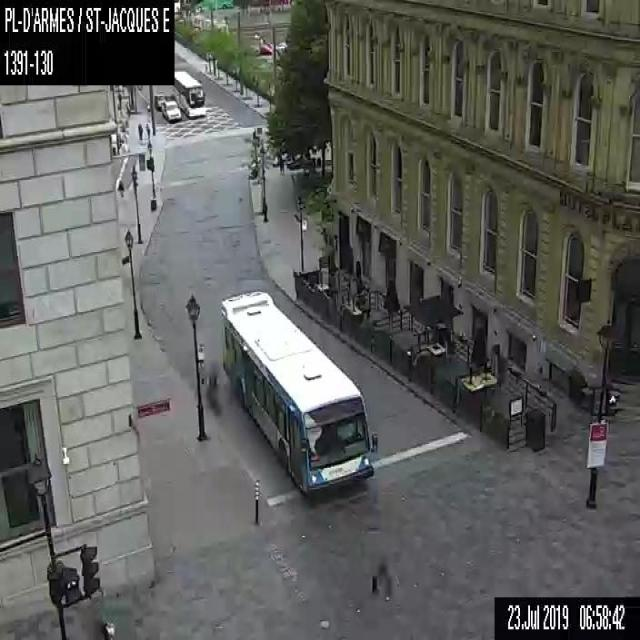bus: (220, 288, 377, 494), (172, 70, 205, 117)
pedestrian: (137, 121, 143, 140), (116, 91, 122, 108)
vehicle: (160, 100, 181, 120), (154, 94, 166, 107), (164, 93, 174, 100)
